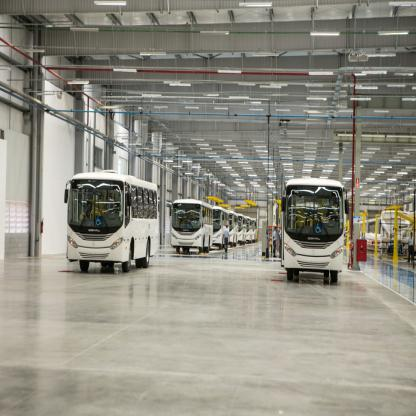Bus: (63, 168, 158, 273), (281, 177, 349, 281), (169, 196, 257, 252)
